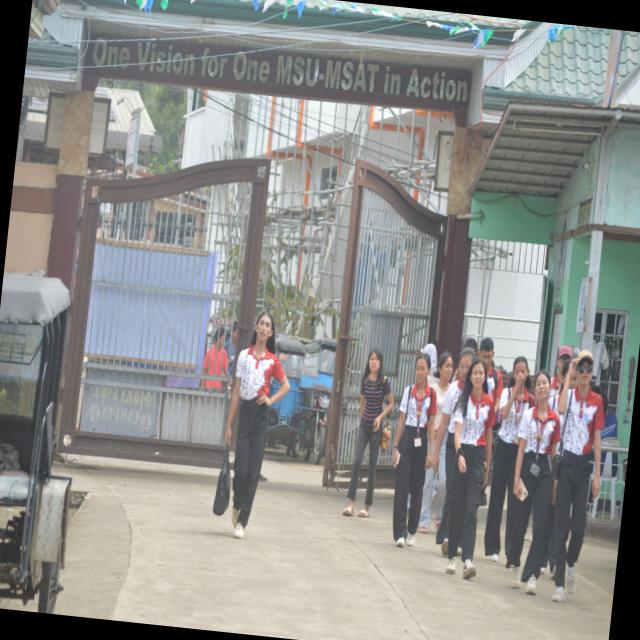person: (226, 312, 289, 538), (552, 350, 604, 602), (507, 371, 560, 594), (447, 359, 495, 578), (484, 357, 533, 561), (432, 348, 475, 554), (343, 348, 394, 517), (393, 354, 437, 547), (418, 446, 445, 533), (203, 328, 228, 376)
